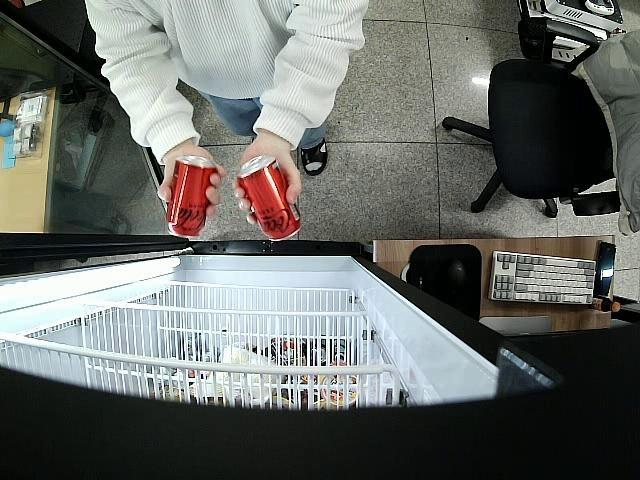11_cocaColaZero: (236, 154, 304, 241), (168, 154, 215, 237)
